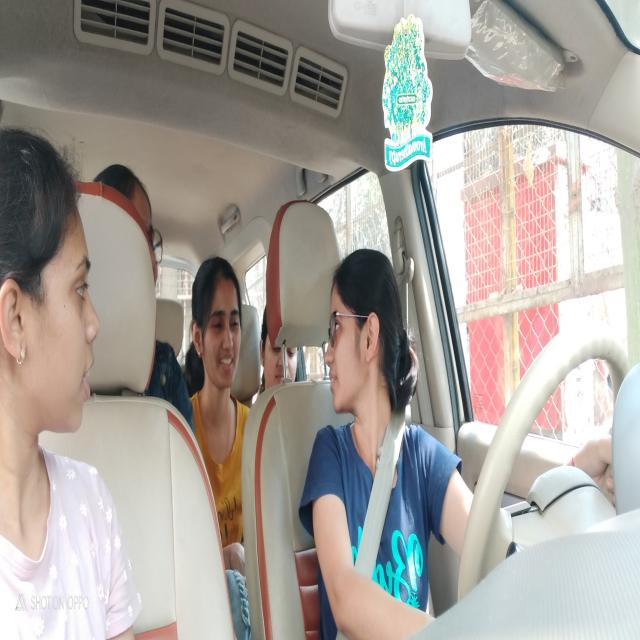LeftRight: (324, 249, 405, 436)
person: (2, 125, 102, 455), (194, 259, 245, 396), (258, 304, 305, 394)
